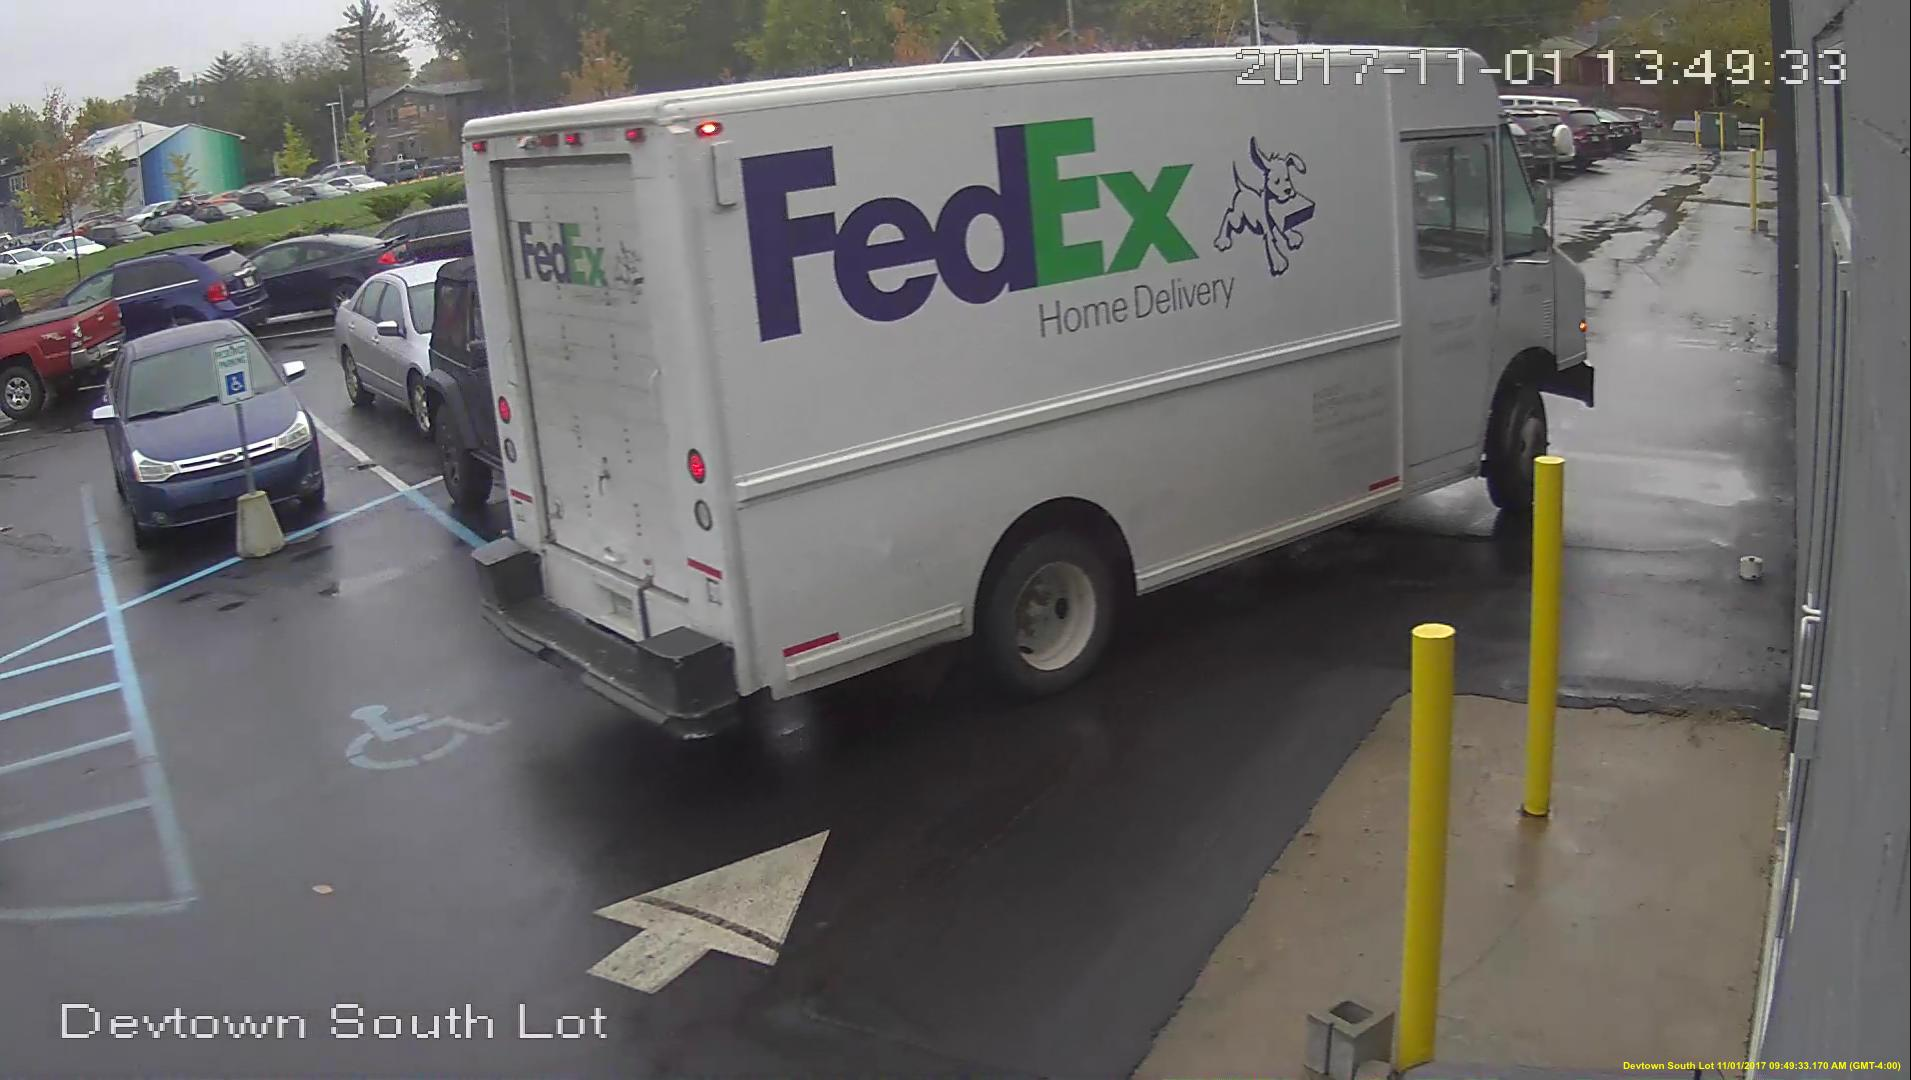fedex_truck: (467, 41, 1593, 737)
